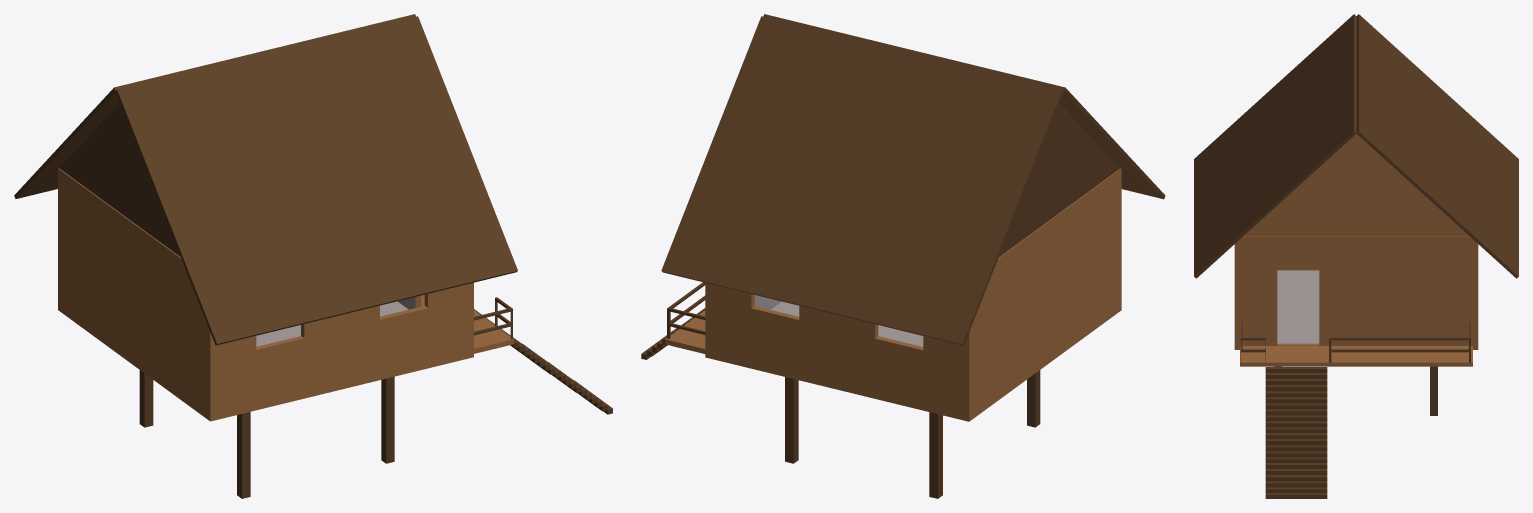
File: House.fbx
The picture shows the model from 3 angles, left to right: view 1: azimuth 30°, elevation 25°; view 2: azimuth 150°, elevation 25°; view 3: azimuth 270°, elevation 25°; orthographic projection. The views are drawn at different scales.
Parts seen in each view (by area): view 1: Cube.033; view 2: Cube.033; view 3: Cube.033.
Part boxes in pixels (x1=…): Cube.033: x1=14, y1=14, x2=612, y2=498; Cube.033: x1=641, y1=14, x2=1165, y2=498; Cube.033: x1=1194, y1=14, x2=1518, y2=498.
Bounding box in the file's own units: 501 × 425 × 400.
